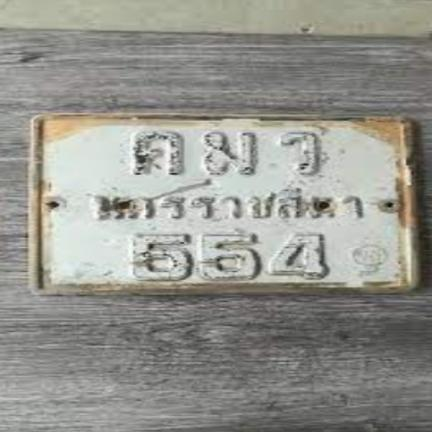4: (268, 230, 332, 280)
5: (127, 230, 195, 280), (200, 230, 261, 281)
A04: (129, 131, 183, 175)
A33: (197, 128, 259, 177)
A37: (275, 128, 324, 176)
NMA: (98, 186, 367, 222)
